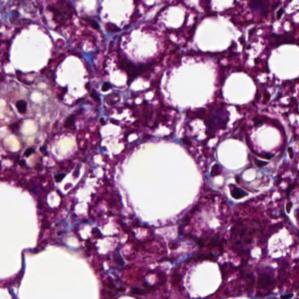inflammation: (204, 158, 254, 204)
